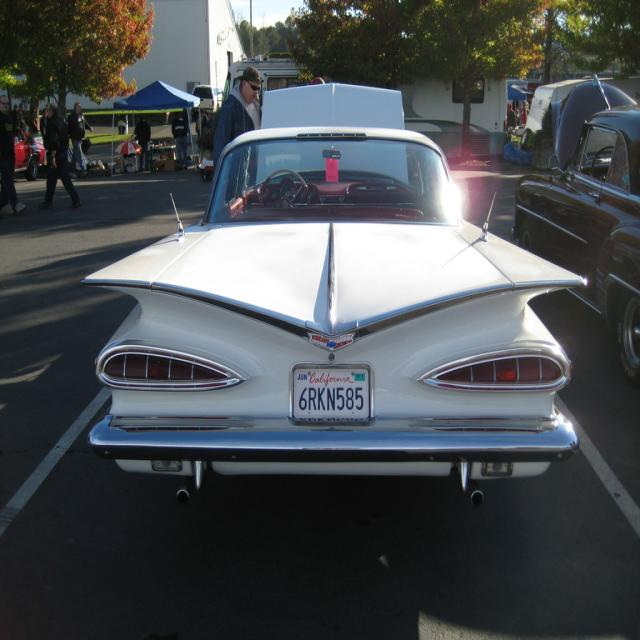car: (78, 77, 590, 511)
